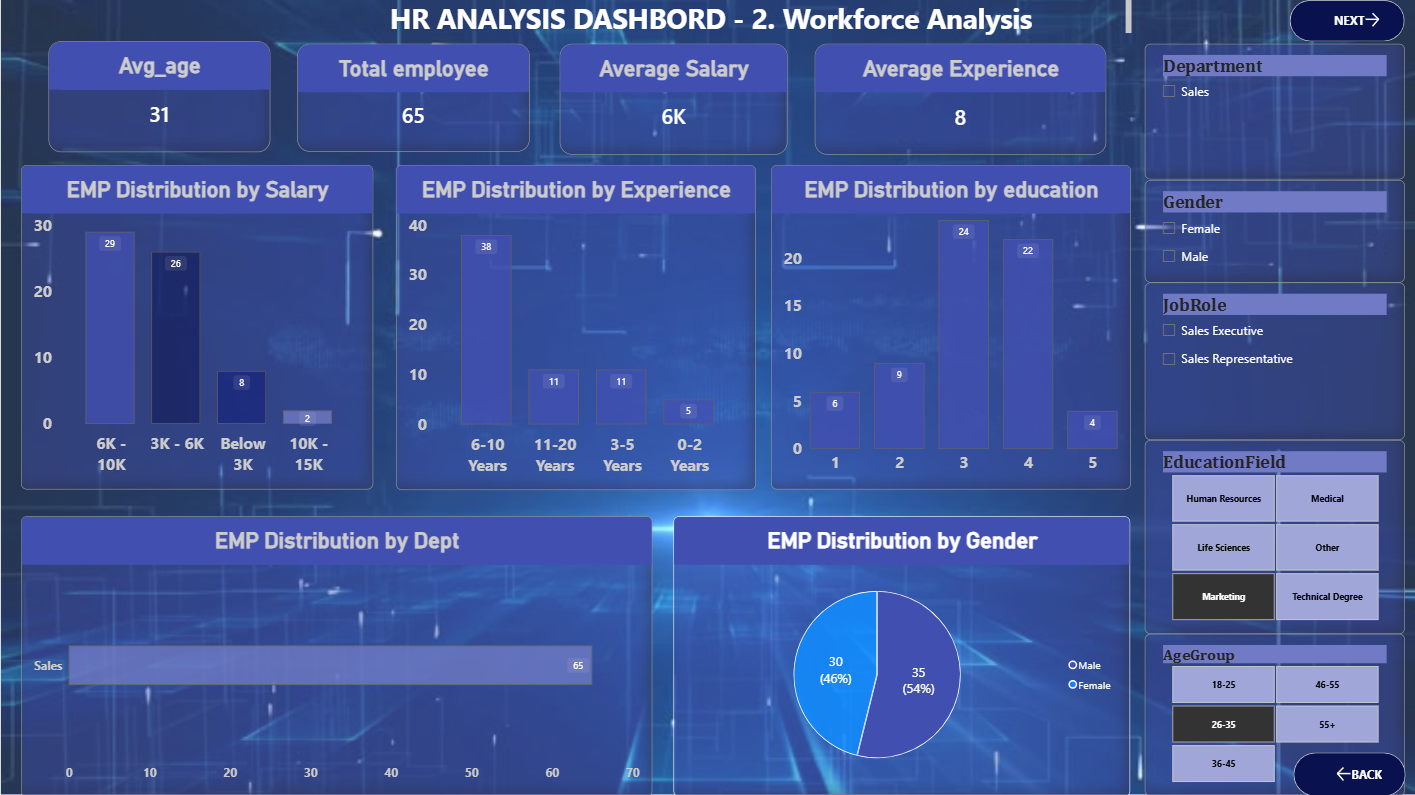

Layout of this report page (visuals, bound fields, positions):
{"tool":"powerbi","page":{"name":"workforce_analysis","canvas":[1920,1080],"ordinal":2},"visuals":[{"type":"clusteredBarChart","title":"EMP Distribution by Dept","fields":{"Category":["HR_Analytics.Department"],"Y":["CountNonNull(HR_Analytics.EmployeeNumber)"]},"box":[26.8,699.8,856.3,380.8],"z":0},{"type":"pieChart","title":"EMP Distribution by Gender","fields":{"Category":["HR_Analytics.Gender"],"Y":["CountNonNull(HR_Analytics.EmpID)"]},"box":[911.8,699.8,619.6,380.8],"z":1000},{"type":"columnChart","title":"EMP Distribution by education","fields":{"Category":["HR_Analytics.Education"],"Y":["CountNonNull(HR_Analytics.EmpID)"]},"box":[1043.6,224.4,488,440],"z":2000},{"type":"clusteredColumnChart","title":"EMP Distribution by Experience","fields":{"Category":["HR_Analytics.Experience Group"],"Y":["CountNonNull(HR_Analytics.EmpID)"]},"box":[535.2,224.4,487.8,440.5],"z":3000},{"type":"card","title":"Total employee","fields":{"Values":["CountNonNull(HR_Analytics.EmpID)"]},"box":[401.4,59.7,314.9,146.1],"z":4000},{"type":"card","title":"Avg_age","fields":{"Values":["Avg(HR_Analytics.Age)"]},"box":[63.8,55.6,300.5,150.3],"z":5000},{"type":"card","title":"Average Salary","fields":{"Values":["Avg(HR_Analytics.MonthlyIncome)"]},"box":[757.5,59.7,309,150],"z":6000},{"type":"card","title":"Average Experience ","fields":{"Values":["Avg(HR_Analytics.TotalWorkingYears)"]},"box":[1103.3,59.7,395.2,150.3],"z":7000},{"type":"slicer","fields":{"Values":["HR_Analytics.Department"]},"box":[1550.1,59.9,352.8,183.9],"z":8000},{"type":"slicer","fields":{"Values":["HR_Analytics.Gender"]},"box":[1550.1,243.7,352.8,139],"z":9000},{"type":"slicer","fields":{"Values":["HR_Analytics.JobRole"]},"box":[1550.1,382.7,352.8,213.8],"z":10000},{"type":"slicer","fields":{"Values":["HR_Analytics.EducationField"]},"box":[1550.1,596.5,352.8,263],"z":11000},{"type":"slicer","fields":{"Values":["HR_Analytics.AgeGroup"]},"box":[1550.1,859.5,352.8,220.2],"z":12000},{"type":"textbox","box":[401.7,0,1131,47.1],"z":13000},{"type":"columnChart","title":"EMP Distribution by Salary","fields":{"Category":["HR_Analytics.Salary_Group"],"Y":["CountNonNull(HR_Analytics.EmpID)"]},"box":[27.1,224.4,477.8,439.7],"z":14000},{"type":"actionButton","box":[1596.1,0,152,59.7],"z":14001},{"type":"actionButton","box":[1748.1,0,155.6,56.1],"z":14002}]}

Visuals, with their boxes in screenshot pixels (x1, y1, x2, y2), scaled from the page's 1920x1080 canvas onto the 1415x795 screenshot:
"EMP Distribution by Dept" clusteredBarChart: x1=20, y1=515, x2=651, y2=794
"EMP Distribution by Gender" pieChart: x1=672, y1=515, x2=1129, y2=794
"EMP Distribution by education" columnChart: x1=769, y1=165, x2=1129, y2=489
"EMP Distribution by Experience" clusteredColumnChart: x1=394, y1=165, x2=754, y2=489
"Total employee" card: x1=296, y1=44, x2=528, y2=151
"Avg_age" card: x1=47, y1=41, x2=268, y2=152
"Average Salary" card: x1=558, y1=44, x2=786, y2=154
"Average Experience " card: x1=813, y1=44, x2=1104, y2=155
slicer - HR_Analytics.Department: x1=1142, y1=44, x2=1402, y2=179
slicer - HR_Analytics.Gender: x1=1142, y1=179, x2=1402, y2=282
slicer - HR_Analytics.JobRole: x1=1142, y1=282, x2=1402, y2=439
slicer - HR_Analytics.EducationField: x1=1142, y1=439, x2=1402, y2=633
slicer - HR_Analytics.AgeGroup: x1=1142, y1=633, x2=1402, y2=794
textbox: x1=296, y1=0, x2=1130, y2=35
"EMP Distribution by Salary" columnChart: x1=20, y1=165, x2=372, y2=489
actionButton: x1=1176, y1=0, x2=1288, y2=44
actionButton: x1=1288, y1=0, x2=1403, y2=41
